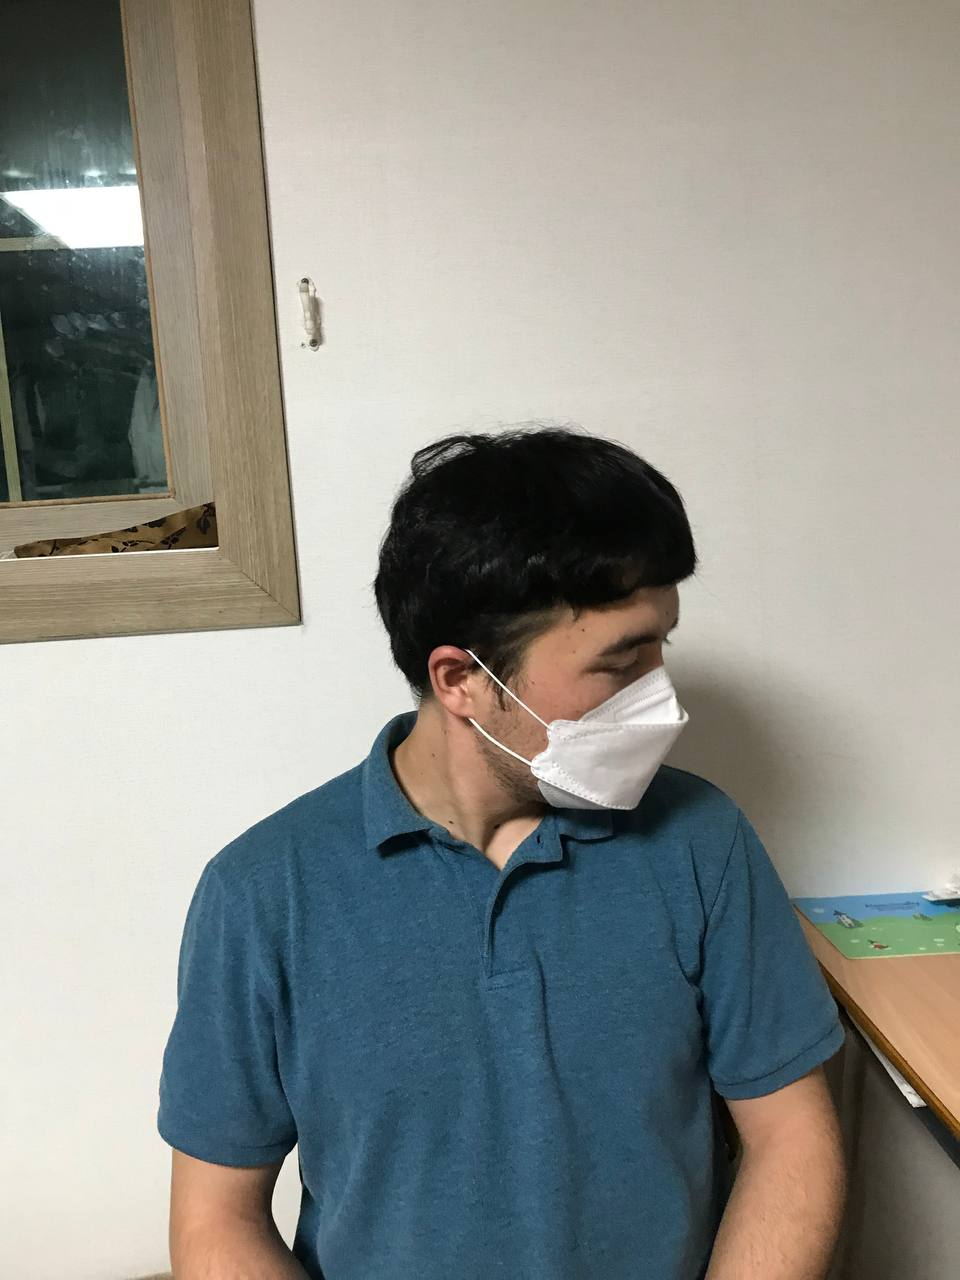Mask: (391, 659, 690, 815)
